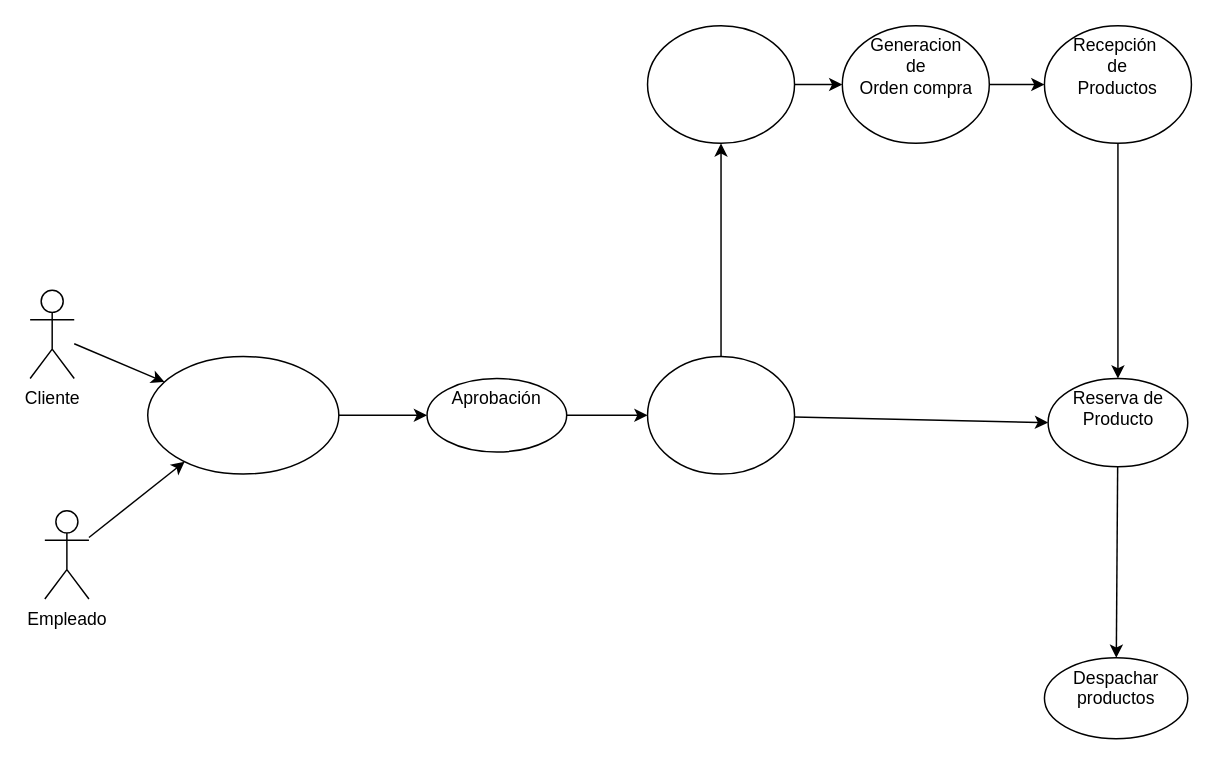
This 1217x764 diagram has some shape labels left out. The centre of each missing label's shape, as x and y in pixels:
Generacion de Orden Pedido Venta: (242,414)
Productos No reservados: (720,83)
Verificación de Stock: (720,414)
